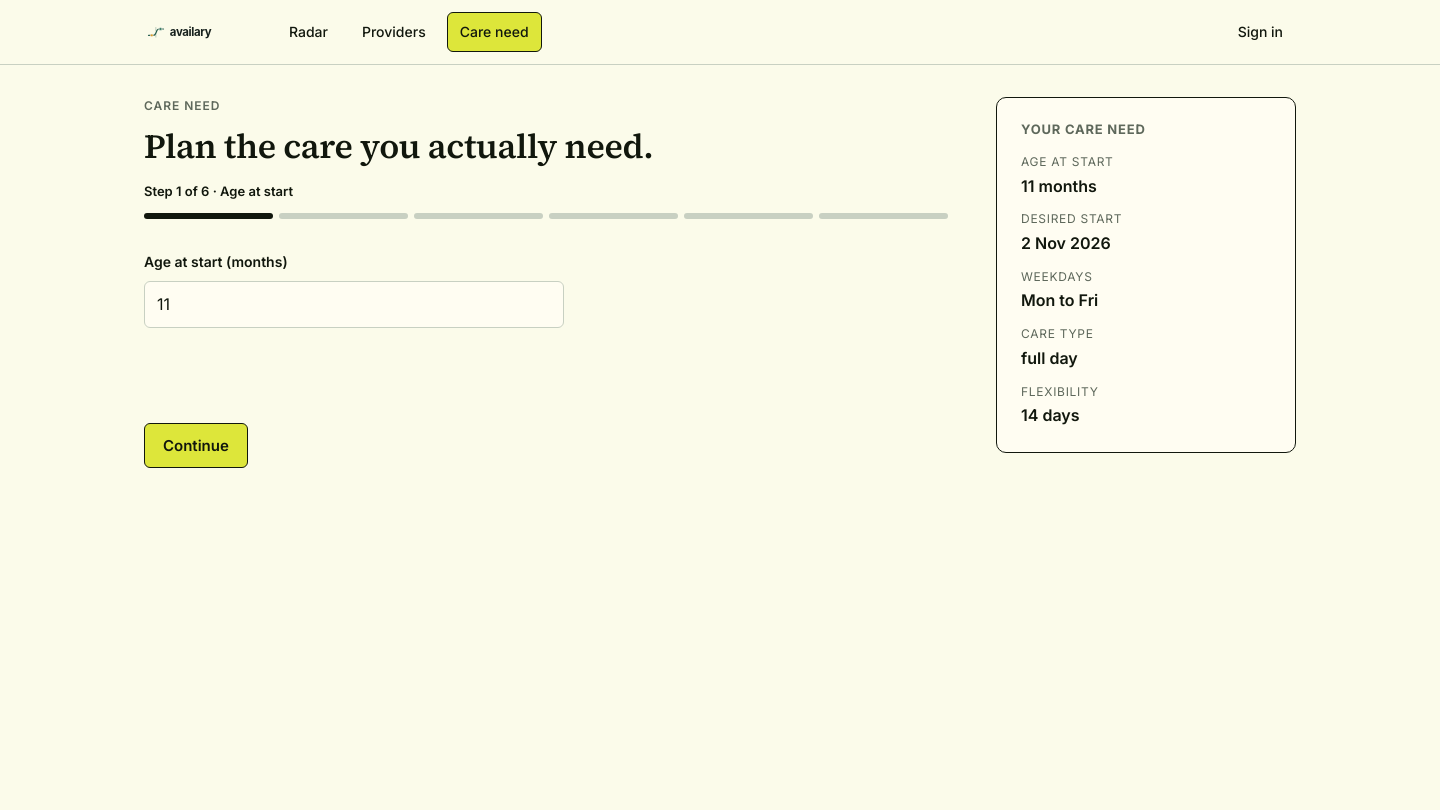
2. care need → providers works while logged out
Click the button "Continue": click(196, 446) [144,423,248,468]
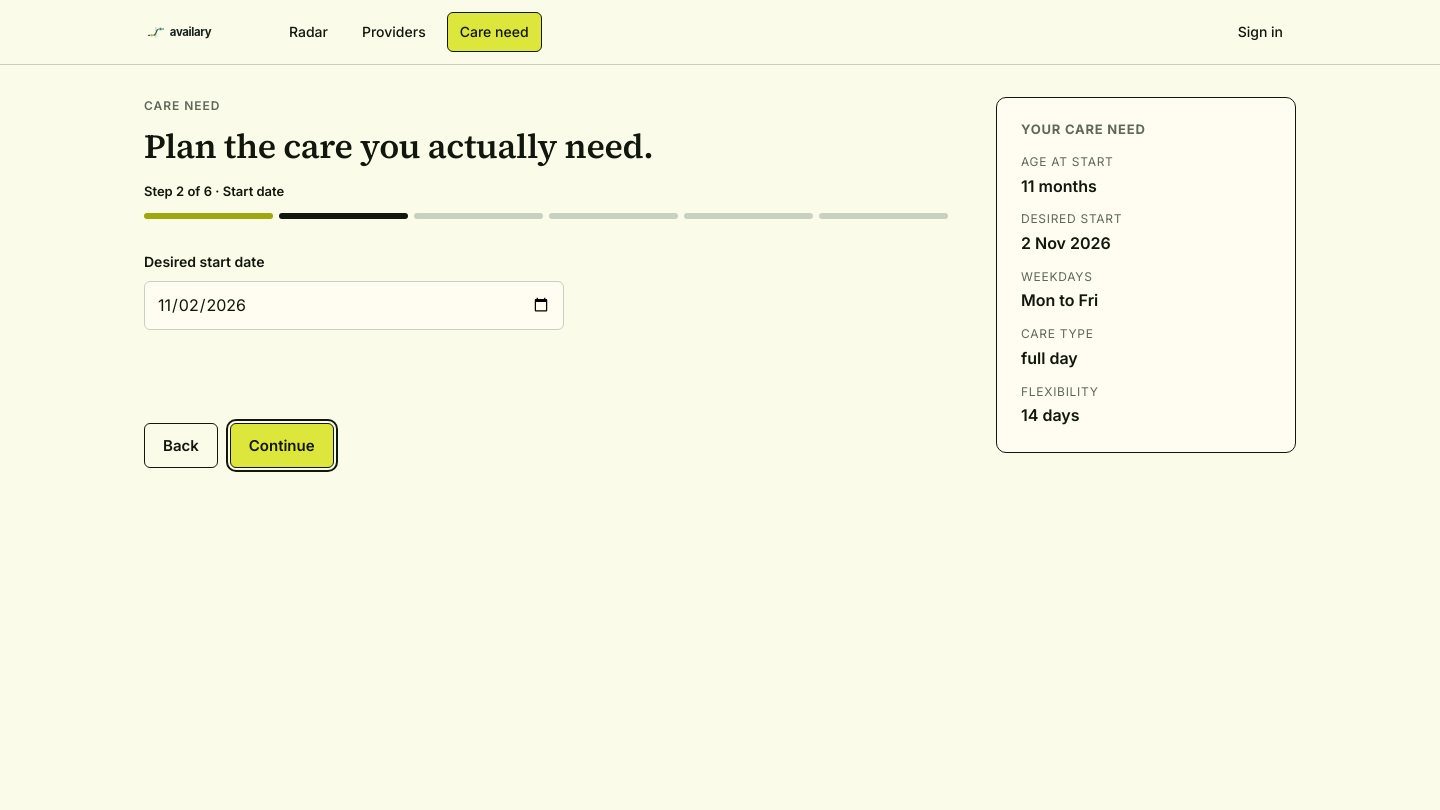
Click the button "Continue": click(282, 446) [230,423,334,468]
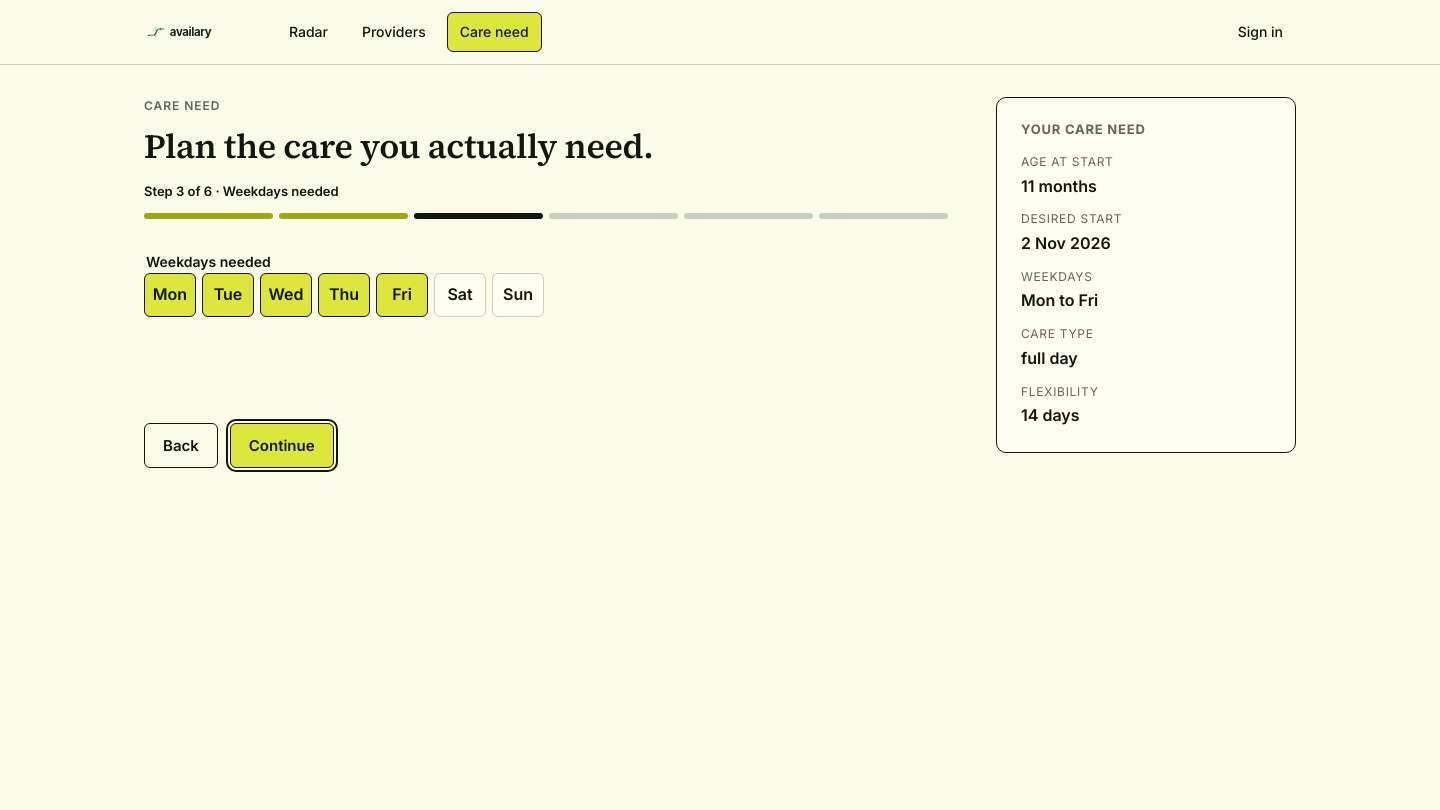
Click the button "Continue": click(282, 446) [230,423,334,468]
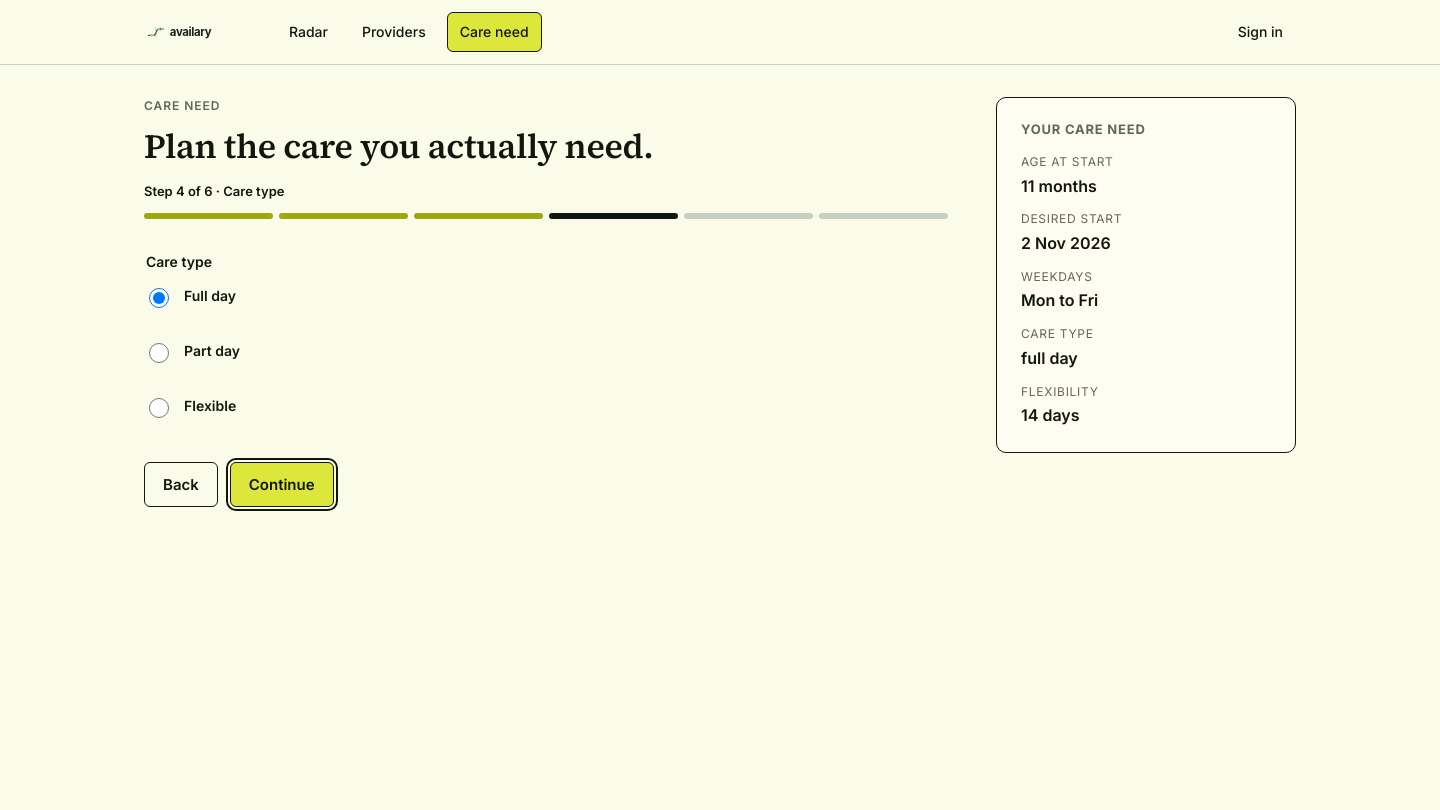
Click the button "Continue": click(282, 484) [230,462,334,507]
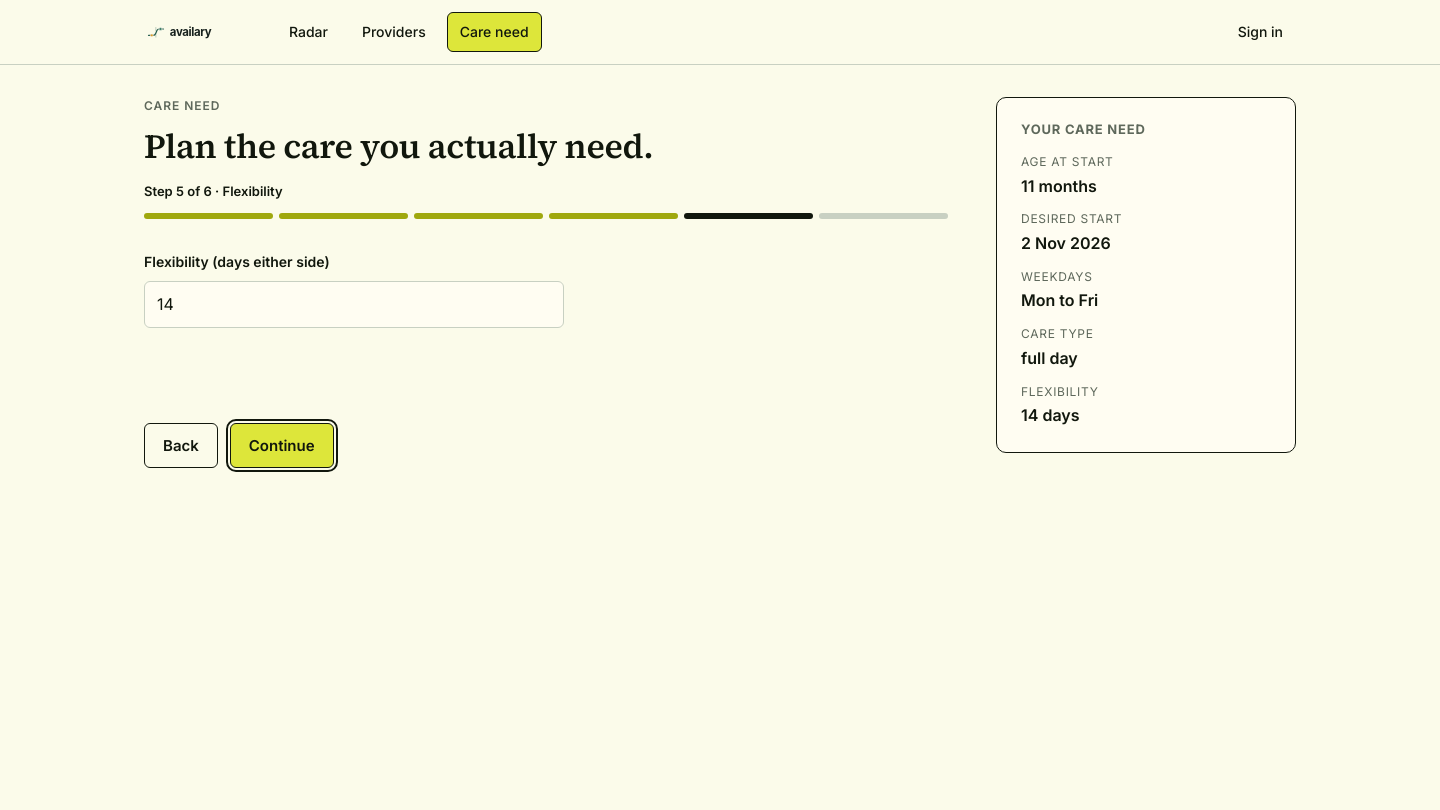
Click the button "Continue": click(282, 446) [230,423,334,468]
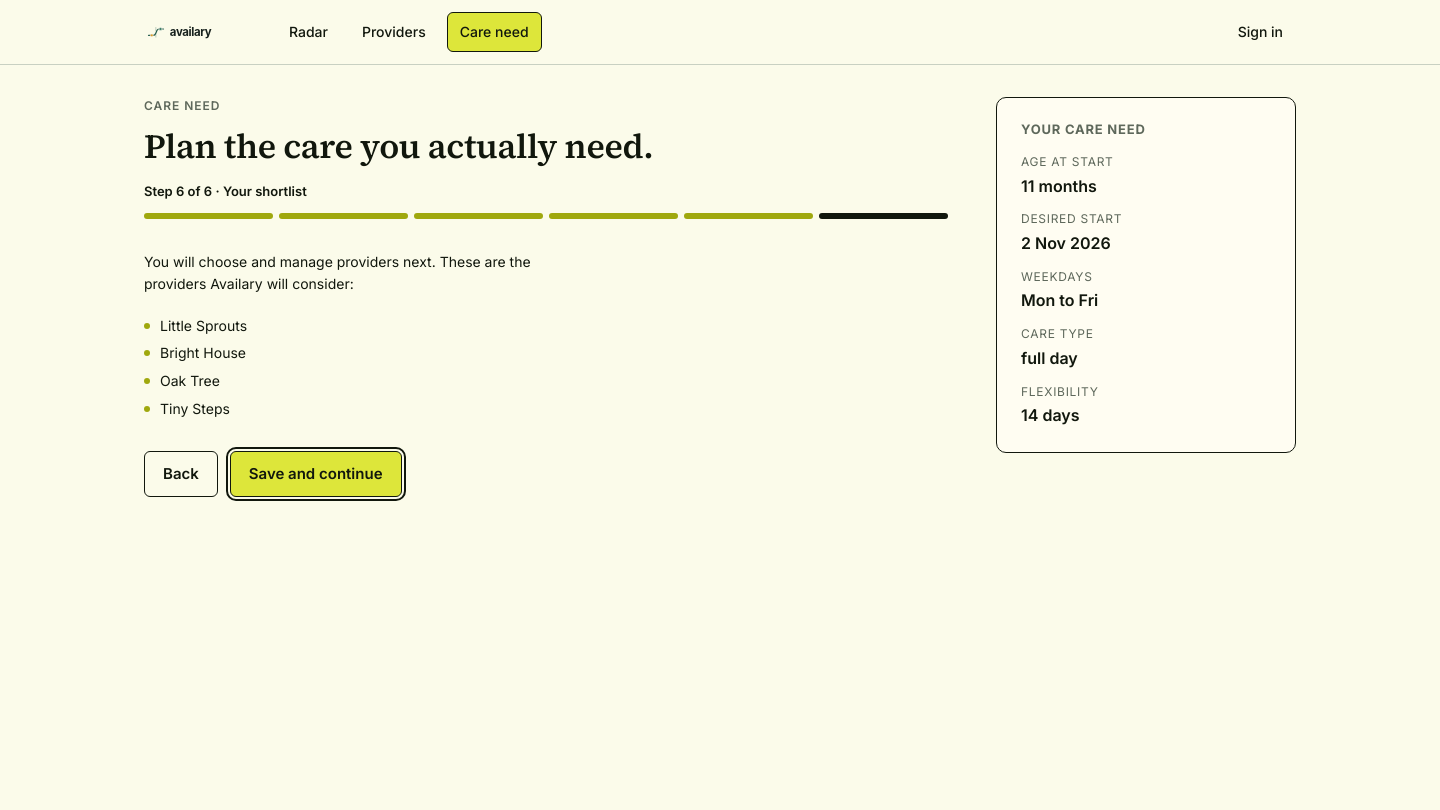
Click the button "Save and continue": click(316, 474) [230,451,402,497]
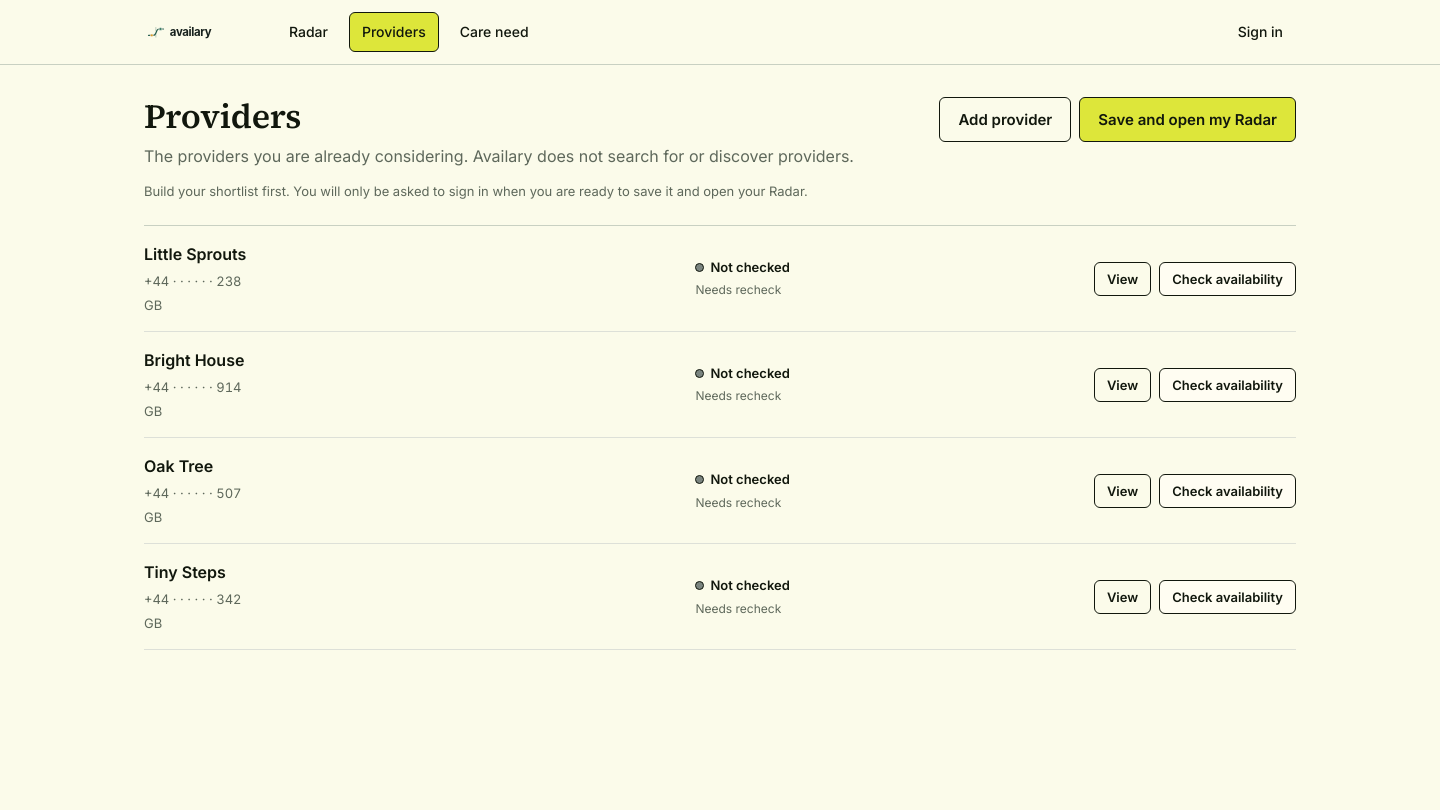
expect the heading "Providers" is shown: met, box [144,93,301,139]
